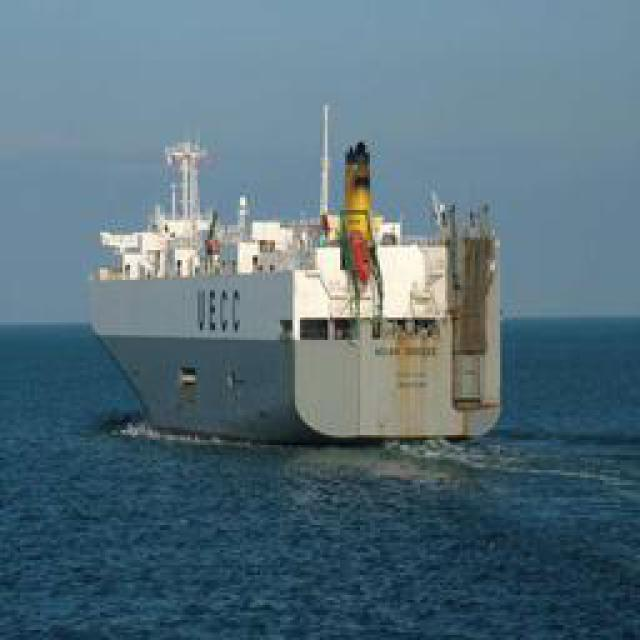Ship: (93, 83, 508, 448)
